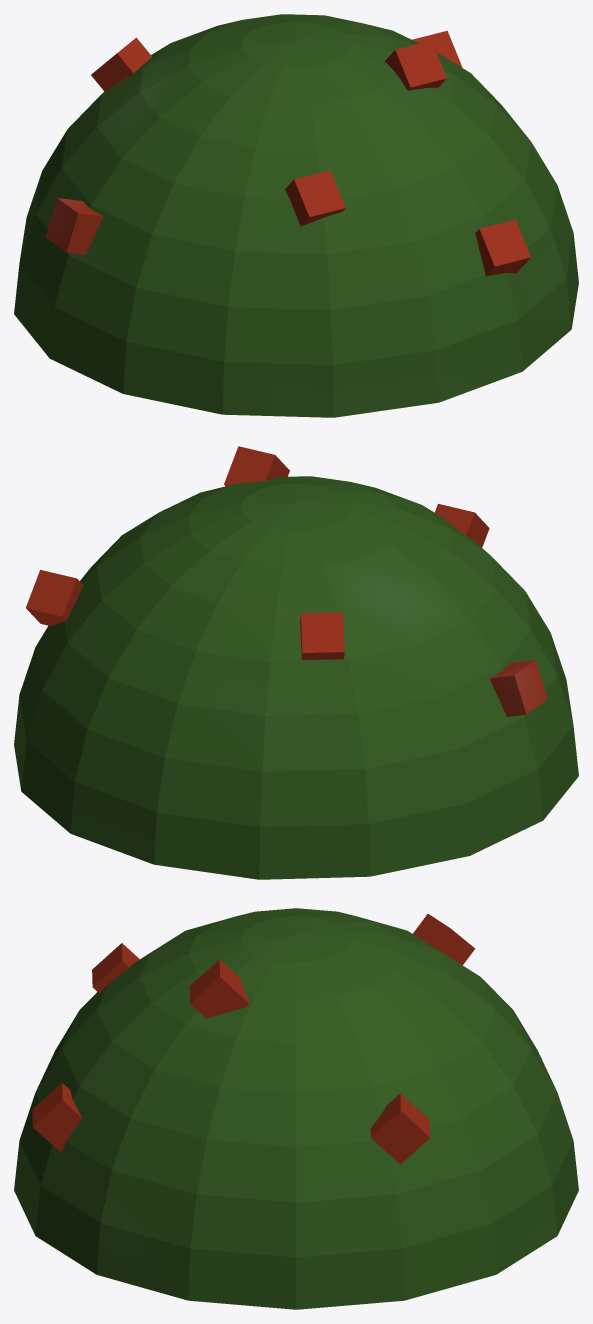
The model's file is BasicFoodPlant.fbx.
3 views of the same model, one above another, from view 1: azimuth 30°, elevation 25°; view 2: azimuth 150°, elevation 25°; view 3: azimuth 270°, elevation 25° (orthographic).
Visible parts, largest first — view 1: BasicFoodPlant; view 2: BasicFoodPlant; view 3: BasicFoodPlant.
Part boxes in pixels (x1=…): BasicFoodPlant: x1=14, y1=14, x2=578, y2=417; BasicFoodPlant: x1=14, y1=446, x2=578, y2=879; BasicFoodPlant: x1=14, y1=908, x2=578, y2=1309.
Size of the model in its own units: 1 by 0.5082 by 1.
